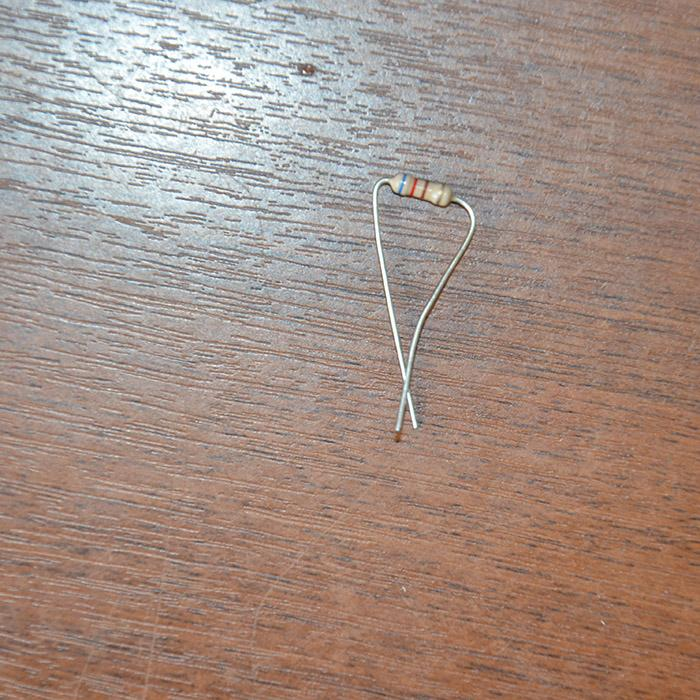resistor: (389, 172, 452, 207)
